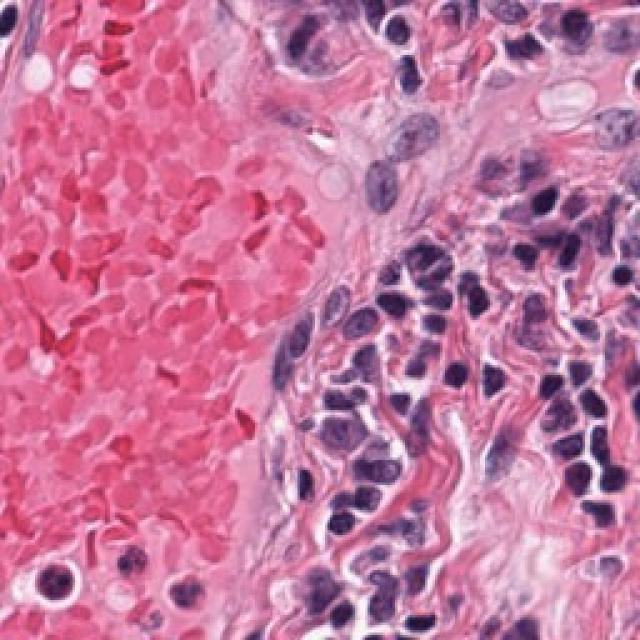normal: (279, 397, 374, 464), (288, 539, 359, 618), (349, 152, 420, 216), (307, 261, 368, 335), (383, 97, 443, 160), (583, 91, 633, 164), (599, 0, 640, 64)
